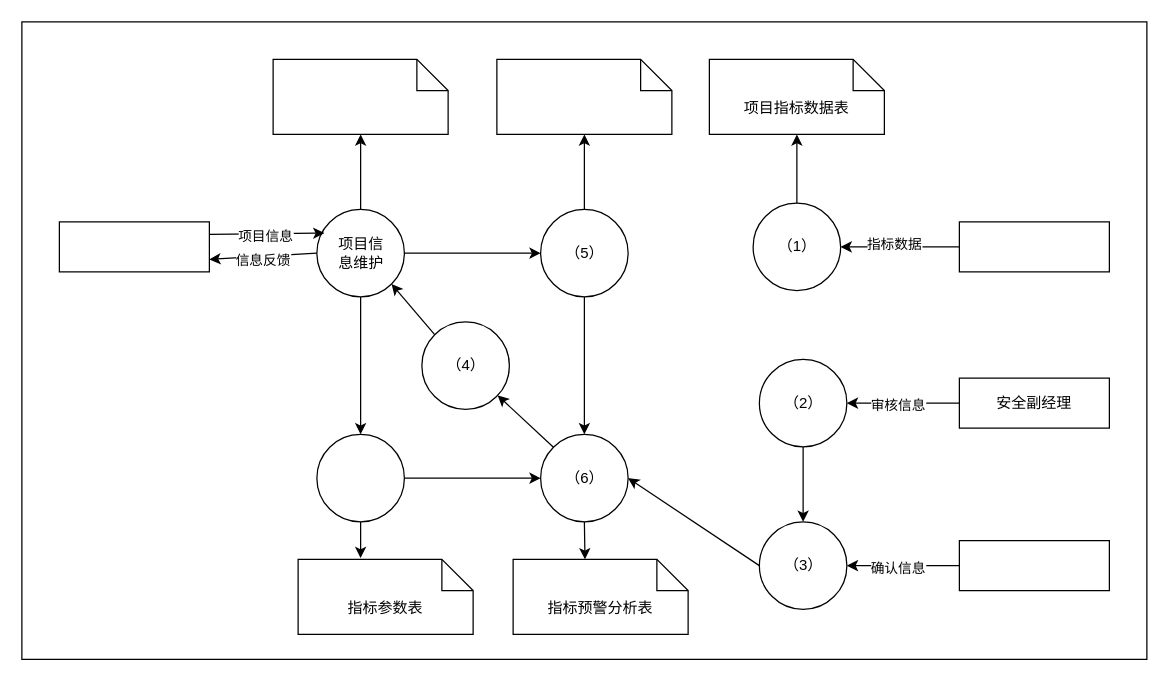
Some shapes in this 1169 by 681 pixel diagram are drawn without their labels. The box of each missing label's shape, as (x1, y1, x2, y2) in pixels:
事故及影响 因素参数表: (496, 58, 672, 134)
关联事 故录入: (316, 433, 404, 522)
安全员: (958, 221, 1109, 272)
项目信息表: (272, 58, 448, 134)
项目管理员: (58, 221, 209, 272)
项目经理: (958, 539, 1109, 591)
